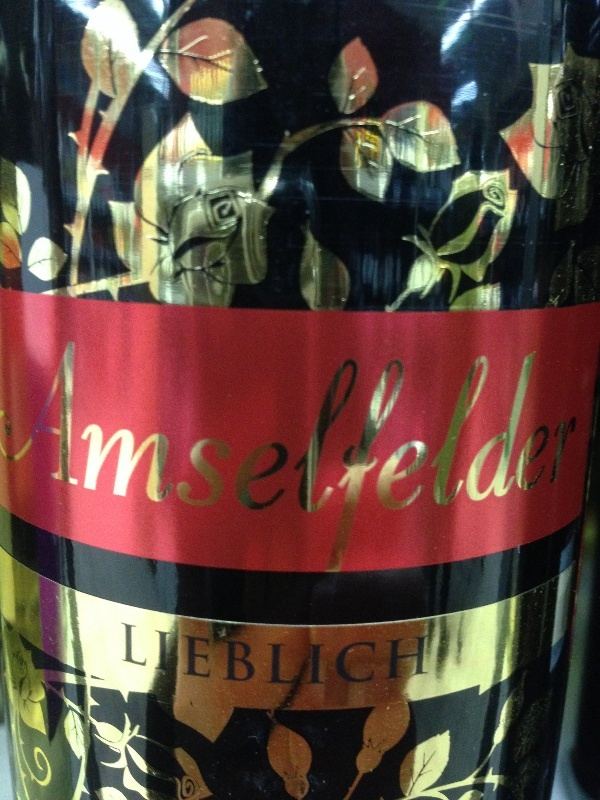text: (1, 330, 16, 595), (17, 330, 32, 595), (33, 330, 48, 595), (49, 330, 64, 595), (65, 330, 80, 595), (81, 330, 96, 595), (97, 330, 112, 595), (113, 330, 128, 595), (129, 330, 144, 595), (145, 330, 160, 595), (161, 330, 176, 595), (177, 330, 192, 595), (193, 330, 208, 595), (209, 330, 224, 595), (225, 330, 240, 595), (241, 330, 256, 595), (257, 330, 272, 595), (273, 330, 288, 595), (289, 330, 304, 595), (305, 330, 320, 595), (321, 330, 336, 595), (337, 330, 352, 595), (353, 330, 368, 595), (369, 330, 384, 595), (385, 330, 400, 595), (401, 330, 416, 595), (417, 330, 432, 595), (433, 330, 448, 595), (449, 330, 464, 595), (465, 330, 480, 595), (481, 330, 496, 595), (497, 330, 512, 595), (513, 330, 528, 595), (529, 330, 544, 595), (545, 330, 560, 595), (561, 330, 576, 595), (577, 330, 589, 595), (129, 625, 144, 692), (145, 625, 160, 692), (161, 625, 176, 692), (177, 625, 192, 692), (193, 625, 208, 692), (209, 625, 224, 692), (225, 625, 240, 692), (241, 625, 256, 692), (257, 625, 272, 692), (273, 625, 288, 692), (289, 625, 304, 692), (305, 625, 320, 692), (321, 625, 336, 692), (337, 625, 352, 692), (353, 625, 368, 692), (369, 625, 384, 692), (385, 625, 400, 692), (401, 625, 416, 692), (417, 625, 430, 692), (120, 625, 128, 692)
